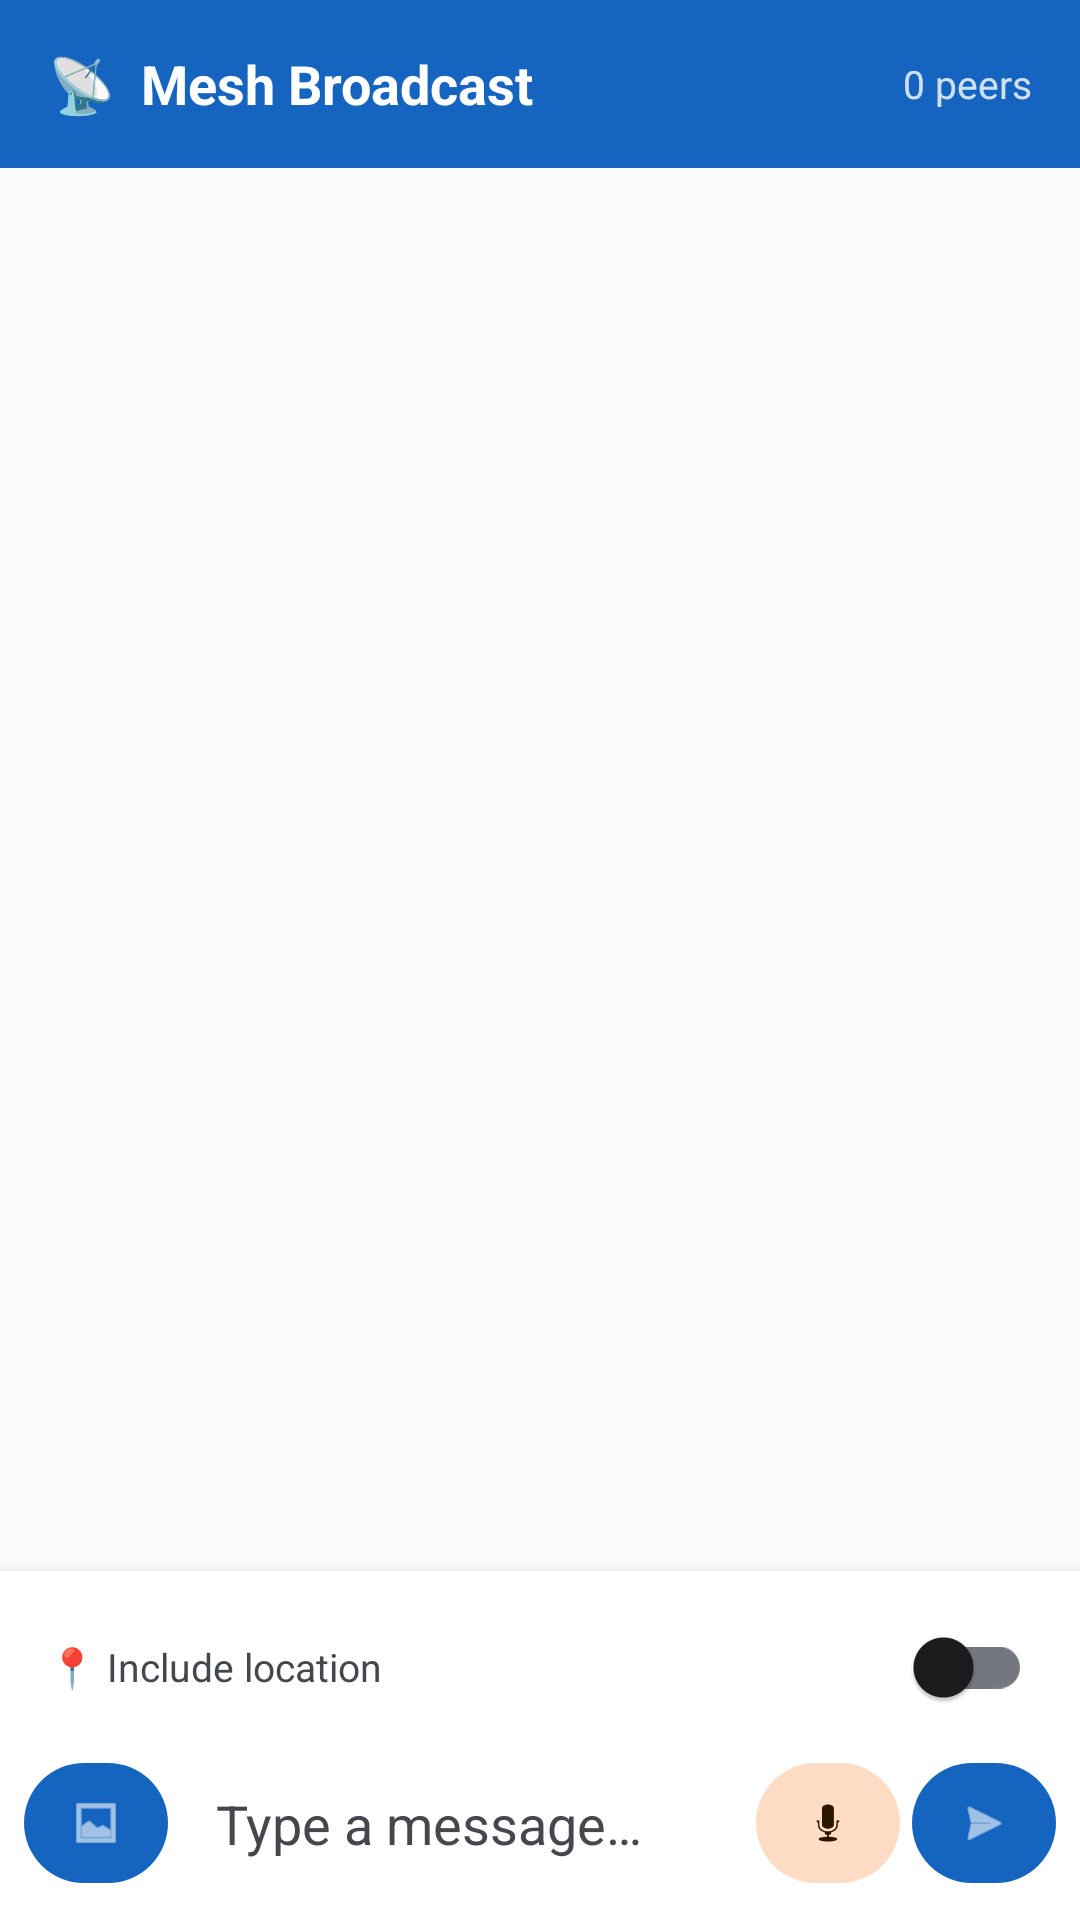

Point at icon controls on the screen. Image size 1080 x 1920, points as point (x, y).
gallery: point (96, 1823)
send: point (984, 1823)
speak now: point (828, 1823)
